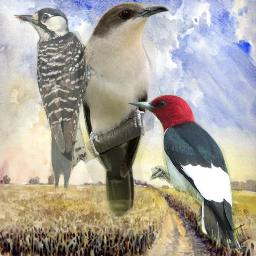Cuckoo: (77, 2, 170, 221)
Woodpecker: (126, 94, 244, 249), (13, 7, 106, 194)
